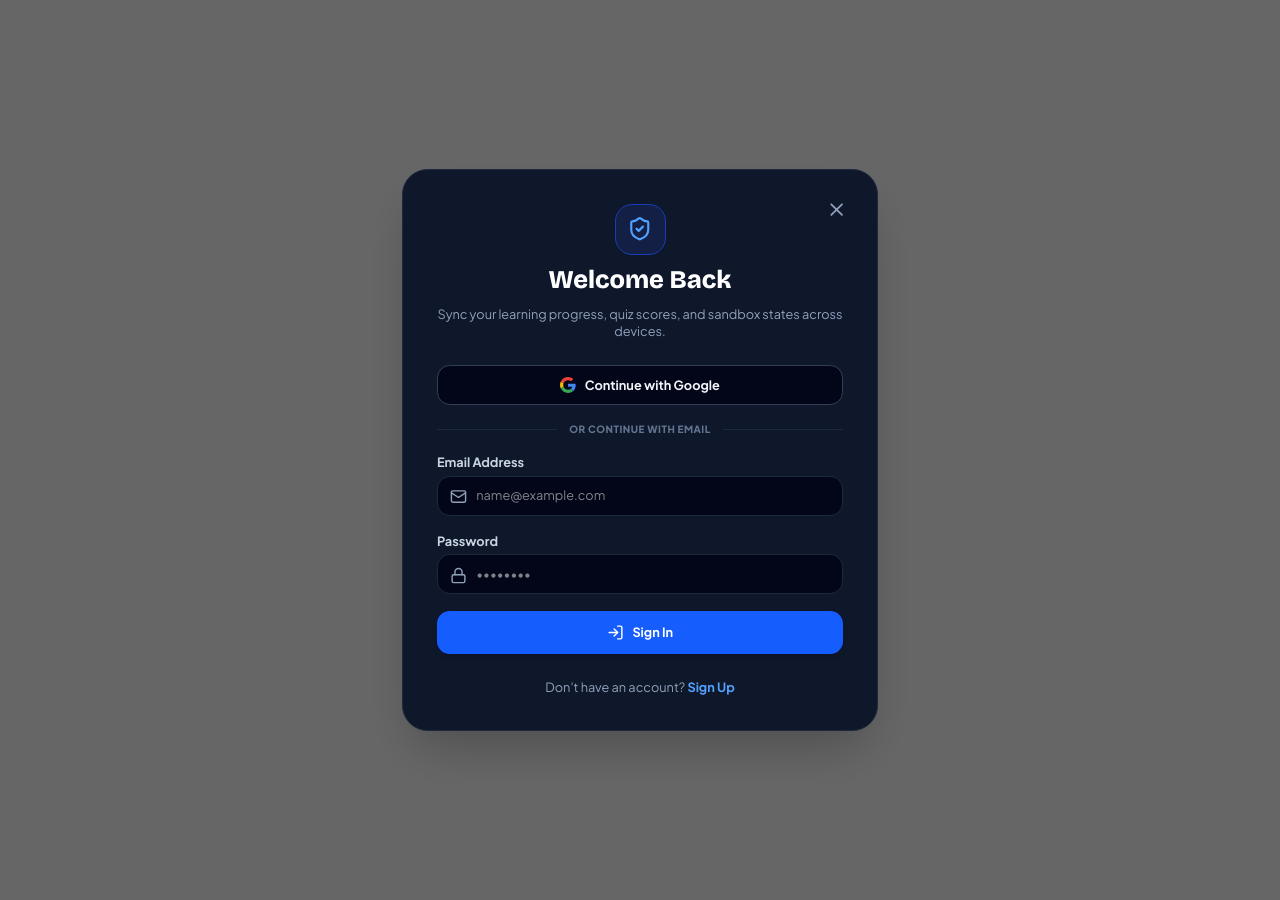
Test: AuthModal › shows an error when Google OAuth cannot start
Click the button "Continue with Google".
click(640, 385)  # box [437, 365, 843, 405]
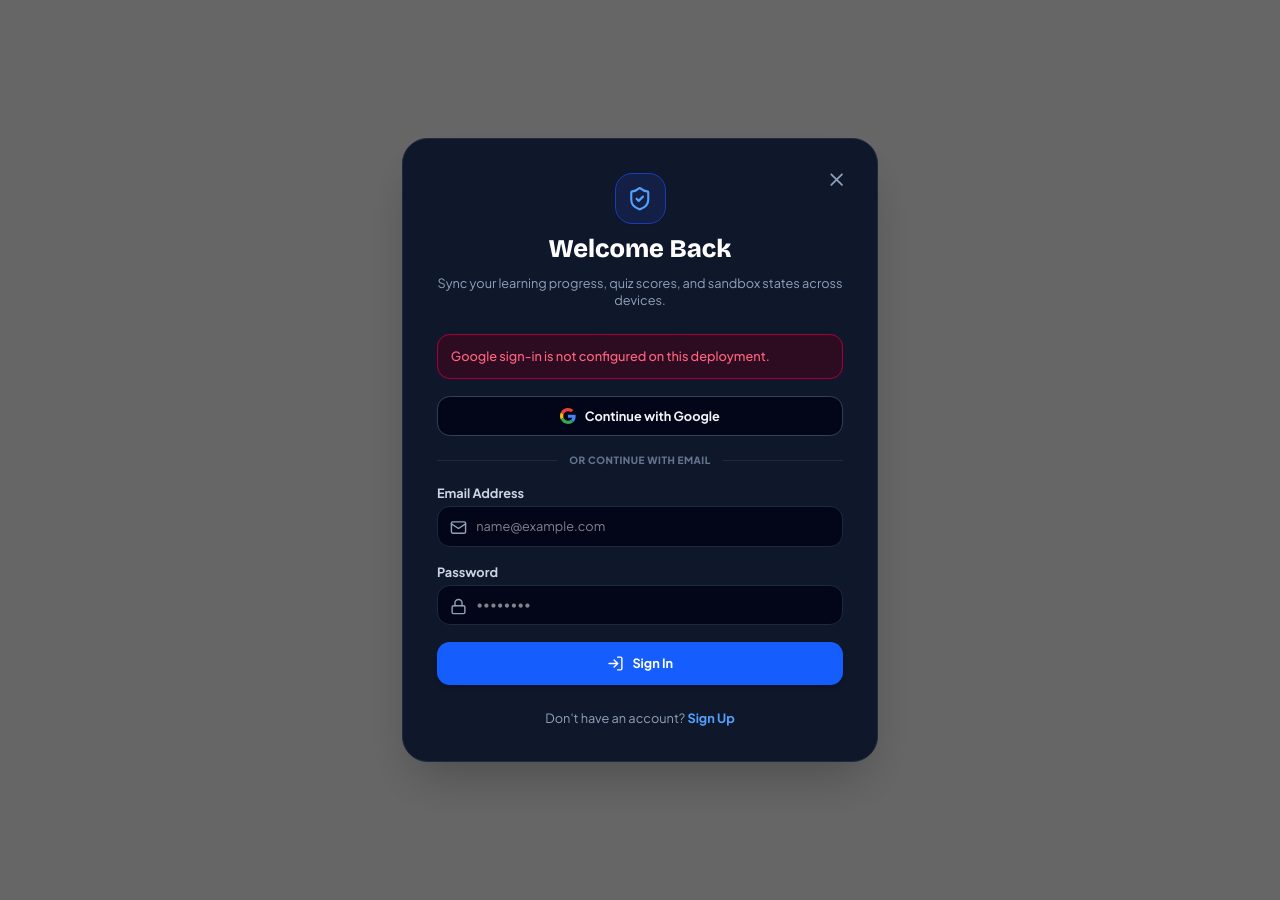
Now the text "Google sign-in is not configured on this deployment." is shown, box [437, 334, 843, 379]
